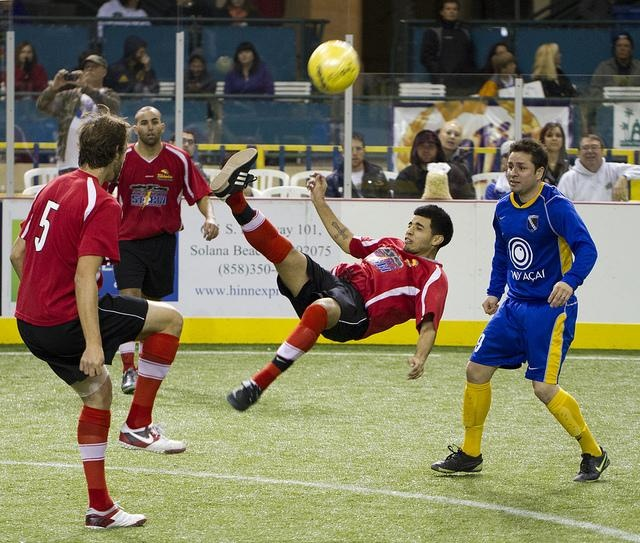person: (10, 113, 192, 531), (208, 147, 452, 414), (431, 141, 610, 486), (94, 105, 224, 393), (34, 55, 126, 160), (394, 130, 484, 203), (556, 133, 640, 210), (316, 132, 394, 199), (527, 38, 582, 104), (106, 36, 161, 94), (221, 42, 277, 97), (178, 54, 215, 96)
